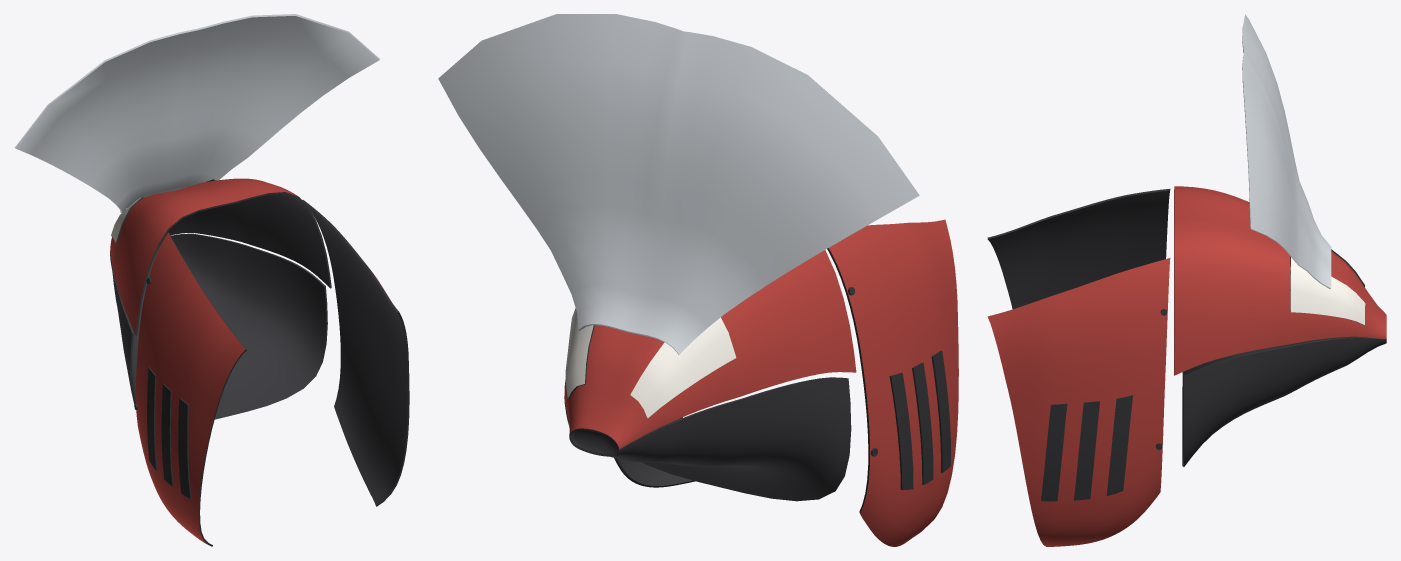
Rendered from adventure.glb.
The picture shows the model from 3 angles, left to right: view 1: azimuth 30°, elevation 25°; view 2: azimuth 150°, elevation 25°; view 3: azimuth 270°, elevation 25°; orthographic projection. The views are drawn at different scales.
Parts seen in each view (by area): view 1: lod0; view 2: lod0; view 3: lod0.
Part boxes in pixels (x1=…): lod0: x1=14, y1=14, x2=409, y2=546; lod0: x1=438, y1=14, x2=958, y2=546; lod0: x1=987, y1=14, x2=1386, y2=546.
Size of what is drawn, in the model's own units: 0.9031 by 1.02 by 0.812.
